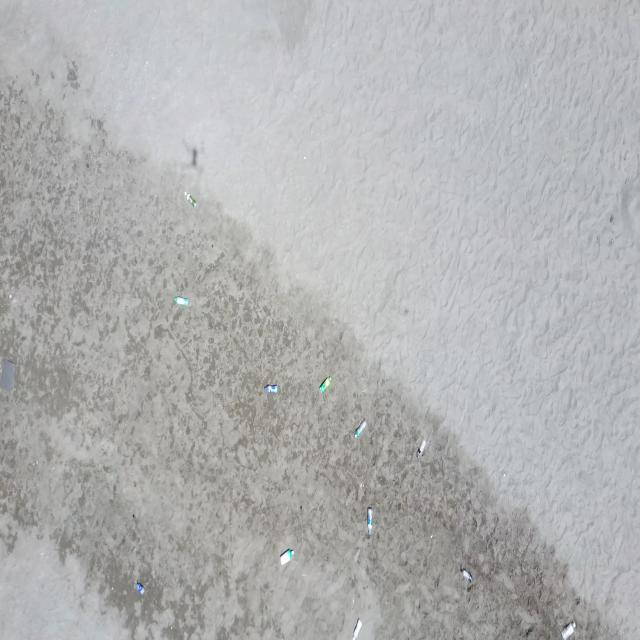plastic-bottle: (280, 548, 296, 567), (561, 620, 576, 640), (352, 618, 364, 640), (354, 419, 367, 438), (366, 508, 374, 536), (319, 376, 332, 393), (416, 438, 426, 459), (172, 294, 188, 307), (263, 382, 279, 395), (185, 191, 198, 207), (460, 568, 473, 582), (136, 582, 146, 597)
